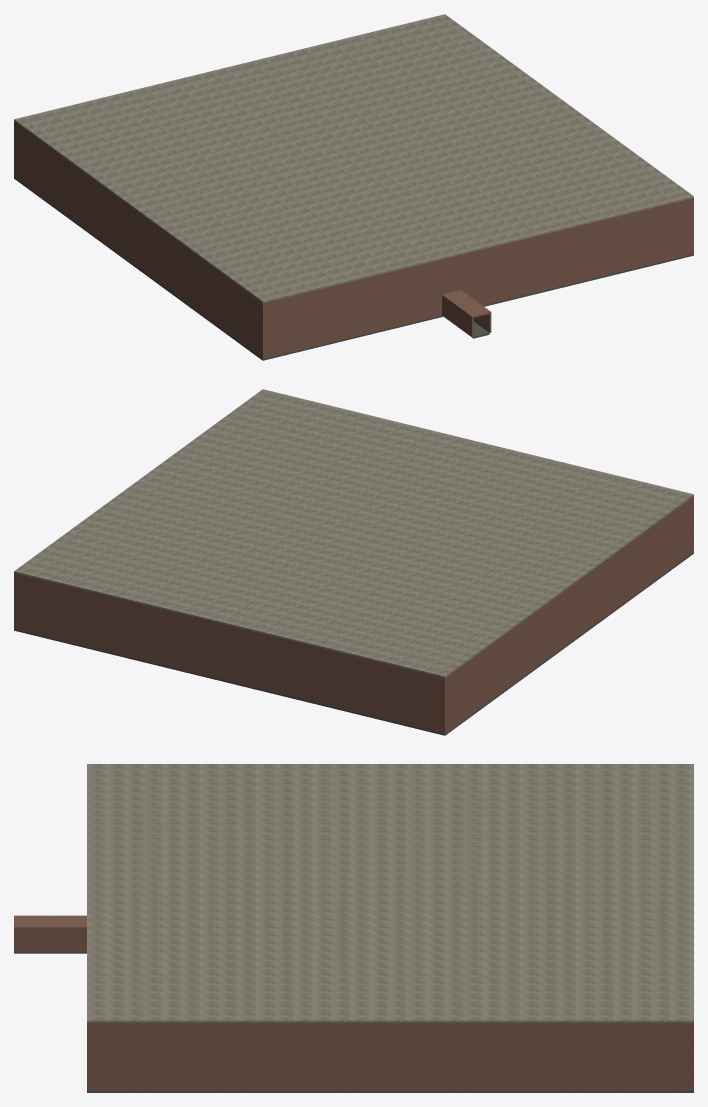
The model's file is zone_power.glb.
The picture shows the model from 3 angles, top to bottom: view 1: azimuth 30°, elevation 25°; view 2: azimuth 150°, elevation 25°; view 3: azimuth 270°, elevation 25°; orthographic projection. The views are drawn at different scales.
Visible parts, largest first — view 1: PWR_ceil_slab, PWR_shell_walls, PWR_shell_corridor, PWR_shell_floor; view 2: PWR_ceil_slab, PWR_shell_walls, PWR_shell_floor; view 3: PWR_ceil_slab, PWR_shell_walls, PWR_shell_corridor, PWR_shell_floor.
Part boxes in pixels (left/top/right/bottom): PWR_ceil_slab: left=14, top=14, right=693, bottom=302; PWR_shell_walls: left=14, top=121, right=693, bottom=358; PWR_shell_corridor: left=442, top=290, right=491, bottom=338; PWR_shell_floor: left=14, top=177, right=693, bottom=360; PWR_ceil_slab: left=14, top=389, right=693, bottom=677; PWR_shell_walls: left=14, top=496, right=693, bottom=733; PWR_shell_floor: left=14, top=552, right=693, bottom=735; PWR_ceil_slab: left=87, top=764, right=693, bottom=1022; PWR_shell_walls: left=87, top=1022, right=693, bottom=1090; PWR_shell_corridor: left=14, top=915, right=86, bottom=953; PWR_shell_floor: left=87, top=1091, right=693, bottom=1092.
Size of the model in its own units: 80.6 by 10.6 by 90.3.
Materials: 15 (8 with a texture image).
